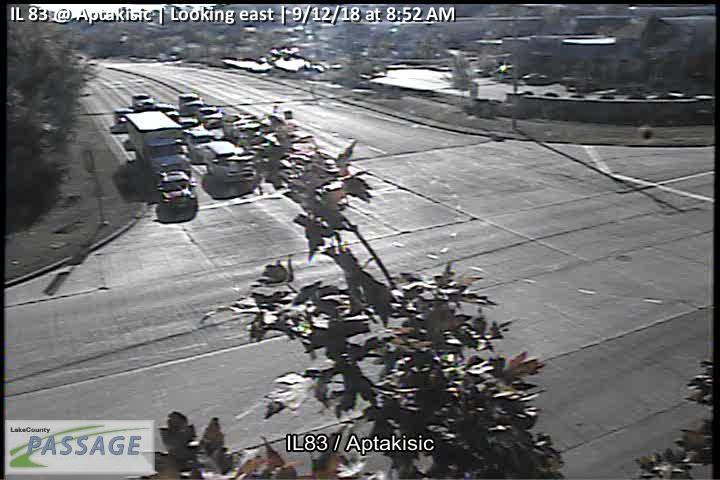Sedan: (156, 171, 198, 213)
Truck: (125, 110, 192, 181)
